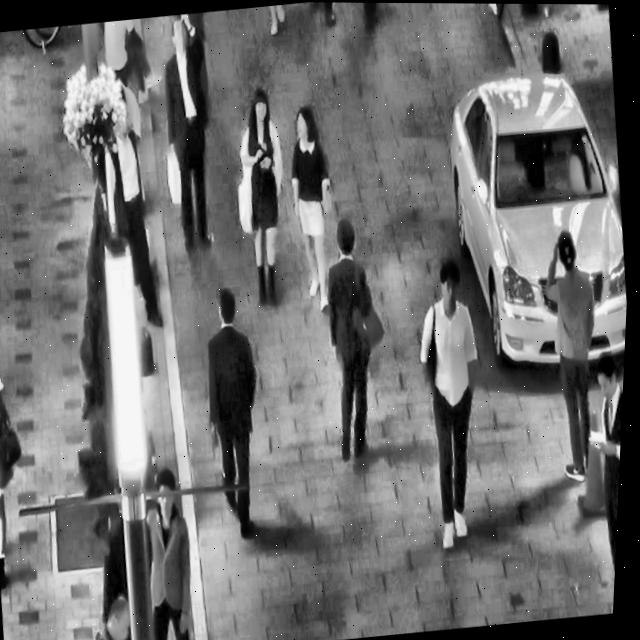light_vehicle: (428, 44, 639, 385)
